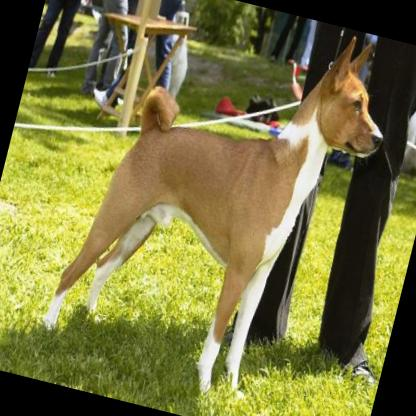basenji: (32, 0, 404, 416)
